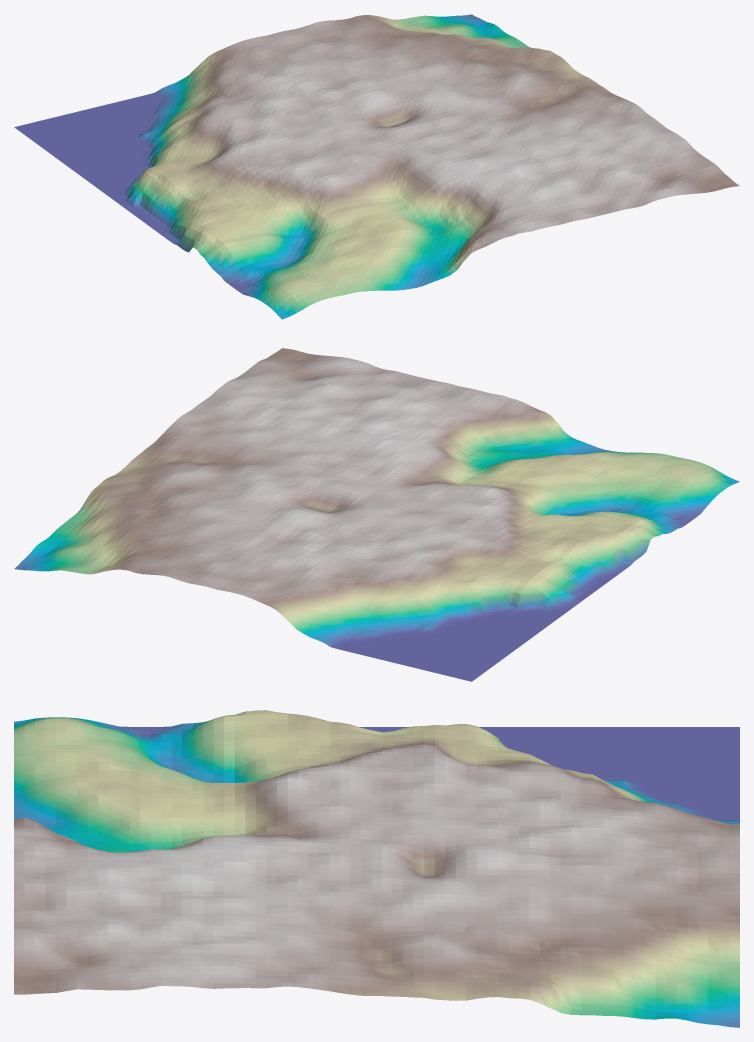
The model's file is 003756_terrain_only.glb.
3 renders of one model, top to bottom at view 1: azimuth 30°, elevation 25°; view 2: azimuth 150°, elevation 25°; view 3: azimuth 270°, elevation 25°, orthographic. The views are drawn at different scales.
Visible parts, largest first — view 1: terrain; view 2: terrain; view 3: terrain.
Part boxes in pixels (x1=…): terrain: x1=14, y1=14, x2=739, y2=319; terrain: x1=14, y1=348, x2=739, y2=681; terrain: x1=14, y1=710, x2=739, y2=1027.
Size of the model in its own units: 0.0183 by 0.00137 by 0.0186.
